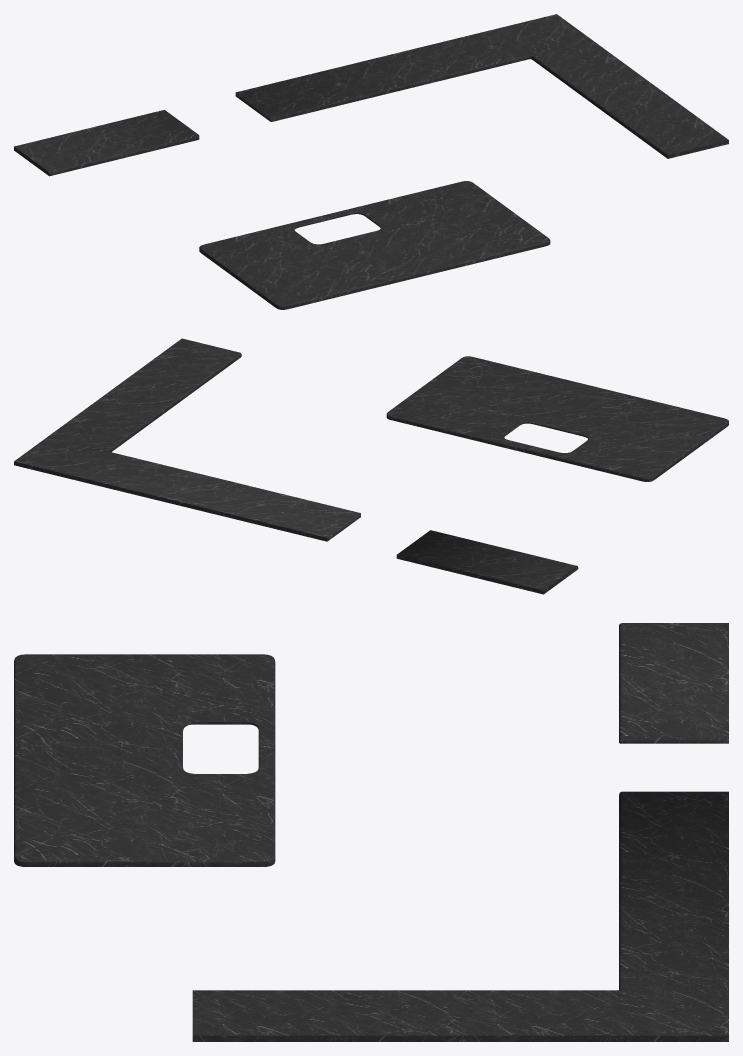
Rendered from 1989_kitchen_Countertops_QuartzEtNoir.gltf.
3 views of the same model, one above another, from view 1: azimuth 30°, elevation 25°; view 2: azimuth 150°, elevation 25°; view 3: azimuth 270°, elevation 25° (orthographic). The views are drawn at different scales.
Visible parts, largest first — view 1: Line22374, Line23355, Line23421, Line22377; view 2: Line22374, Line23355, Line23421, Line22377; view 3: Line22374, Line23355, Line23421, Line22377.
Boxes of the visible parts, x1,y1,x2,y2 form: Line22374: (199, 181, 550, 309); Line23355: (235, 14, 728, 158); Line23421: (14, 110, 199, 176); Line22377: (286, 209, 389, 247); Line22374: (386, 356, 728, 481); Line23355: (14, 338, 360, 541); Line23421: (396, 530, 578, 594); Line22377: (496, 418, 596, 455); Line22374: (14, 654, 275, 866); Line23355: (192, 791, 728, 1041); Line23421: (619, 623, 728, 743); Line22377: (176, 718, 261, 776).
Bounding box in the file's own units: 7.1 × 0.07 × 5.2.
Materials: 1 (1 with a texture image).
